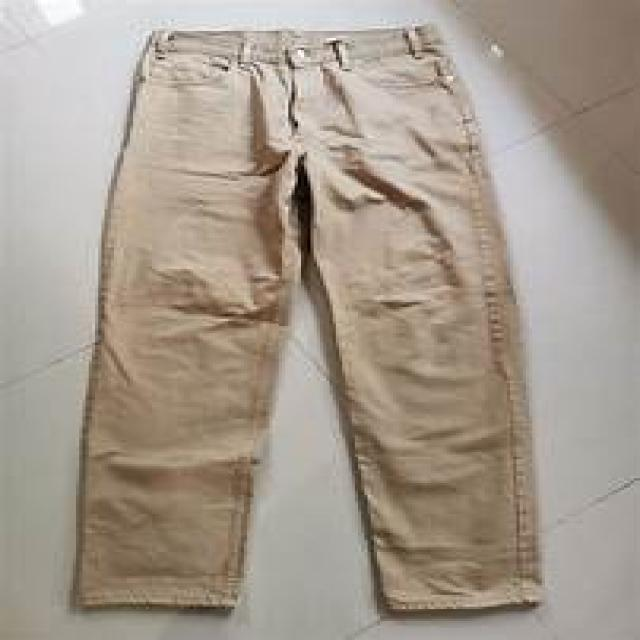long-pants: (76, 24, 547, 614)
